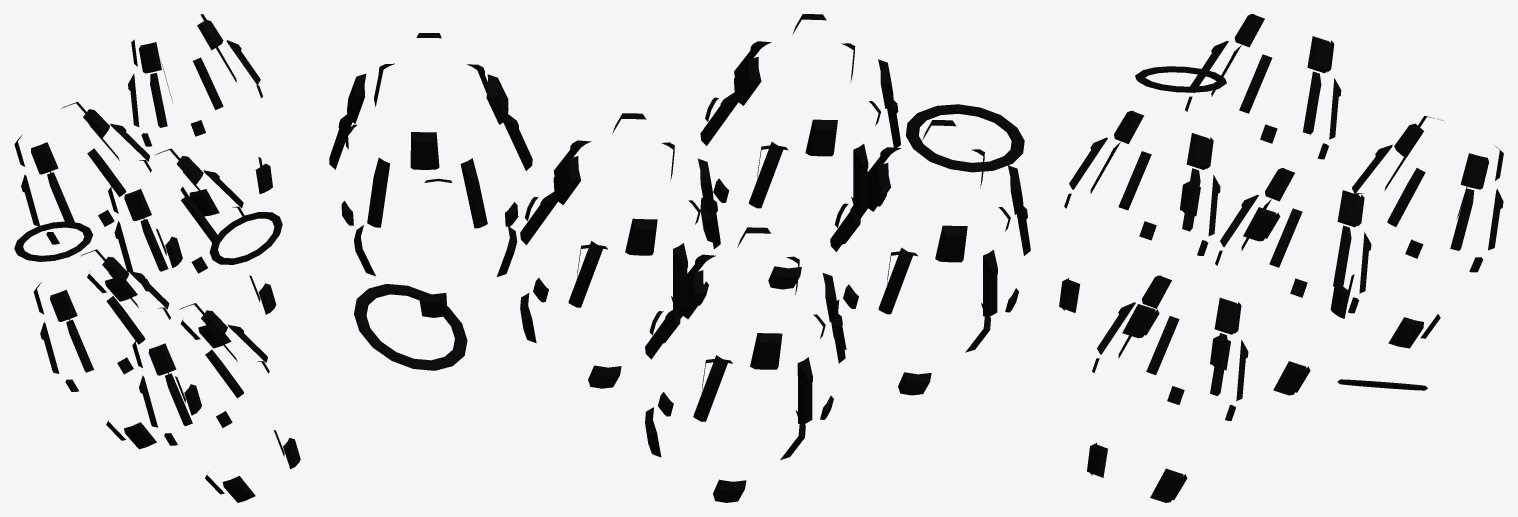
File: prop_static_yao_container_02_05_0.glb
3 renders of one model, left to right at view 1: azimuth 30°, elevation 25°; view 2: azimuth 150°, elevation 25°; view 3: azimuth 270°, elevation 25°, orthographic. The views are drawn at different scales.
Visible parts, largest first — view 1: yao_container_02_05_LOD0; view 2: yao_container_02_05_LOD0; view 3: yao_container_02_05_LOD0.
Boxes of the visible parts, left/top/right/bottom form: yao_container_02_05_LOD0: left=14, top=14, right=300, bottom=502; yao_container_02_05_LOD0: left=329, top=14, right=1030, bottom=502; yao_container_02_05_LOD0: left=1059, top=14, right=1503, bottom=502.
Size of what is drawn, in the model's own units: 4.1 by 4.25 by 3.99.
Materials: 1 (1 with a texture image).
